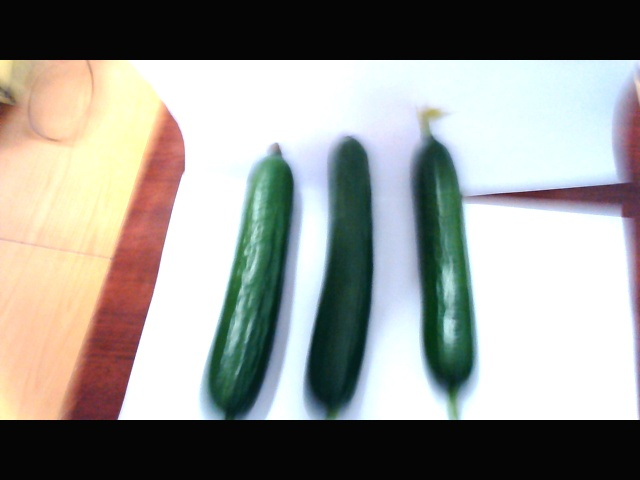cucumber: (201, 139, 297, 410), (403, 105, 485, 409), (310, 134, 378, 411)
